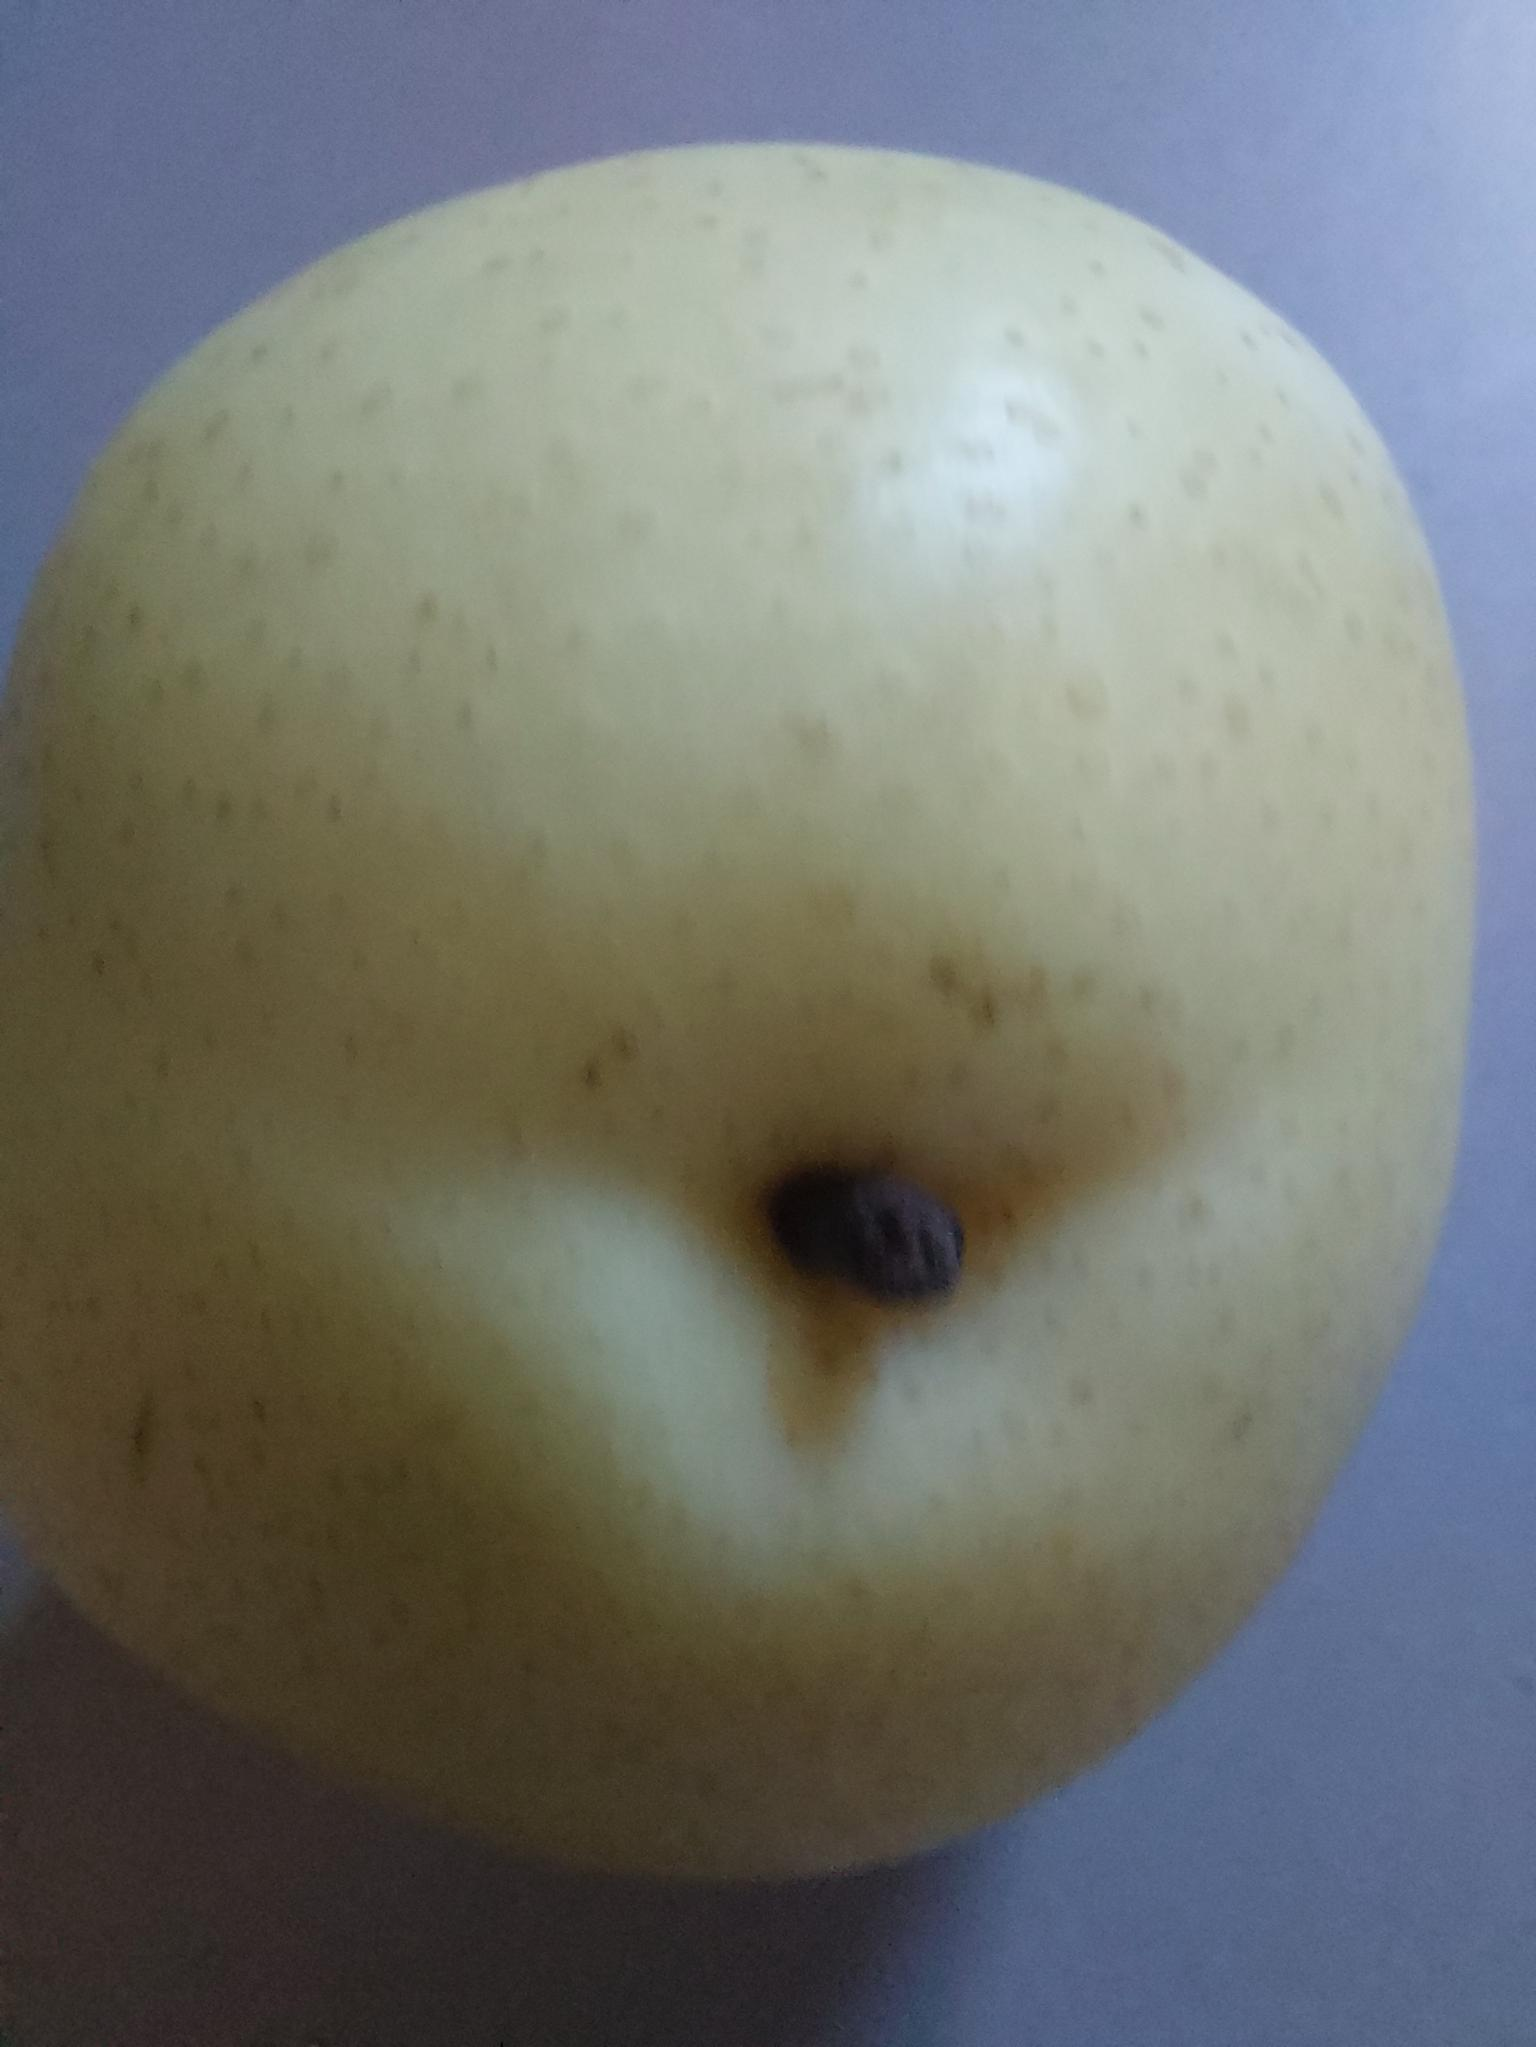Good Pear: (0, 129, 1486, 1892)
